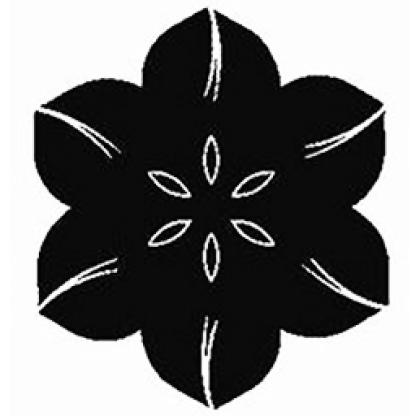kamon: (31, 5, 390, 409)
